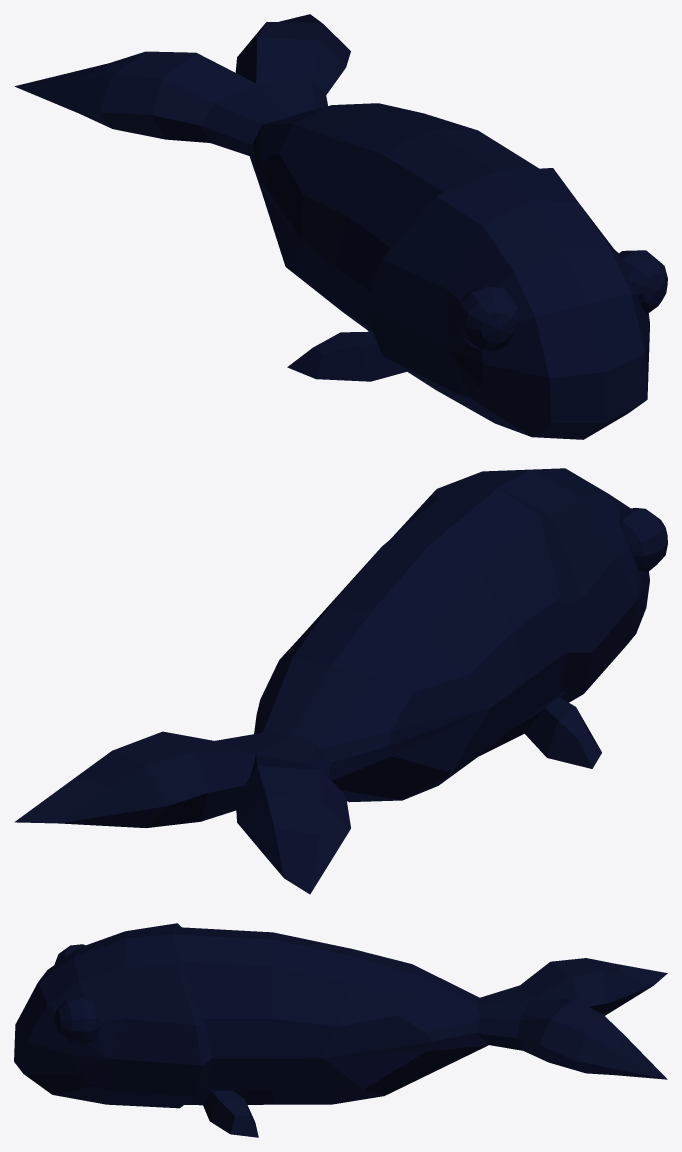
Rendered from FishDoll.fbx.
The picture shows the model from 3 angles, top to bottom: view 1: azimuth 30°, elevation 25°; view 2: azimuth 150°, elevation 25°; view 3: azimuth 270°, elevation 25°; orthographic projection. The views are drawn at different scales.
Parts seen in each view (by area): view 1: Fish_Doll_1_head, Fish_Doll_4_tail, Fish_Doll_3_body, Fish_Doll_2_fin, Fish_Doll_eye_R, Fish_Doll_eye_L; view 2: Fish_Doll_3_body, Fish_Doll_4_tail, Fish_Doll_2_fin, Fish_Doll_1_head, Fish_Doll_eye_R; view 3: Fish_Doll_3_body, Fish_Doll_1_head, Fish_Doll_2_fin, Fish_Doll_4_tail, Fish_Doll_eye_L.
Part boxes in pixels (x1,y1,x2,y2): Fish_Doll_1_head: [364, 168, 649, 439]; Fish_Doll_4_tail: [14, 14, 350, 155]; Fish_Doll_3_body: [249, 103, 476, 327]; Fish_Doll_2_fin: [287, 128, 538, 381]; Fish_Doll_eye_R: [456, 285, 517, 351]; Fish_Doll_eye_L: [618, 250, 667, 313]; Fish_Doll_3_body: [254, 544, 524, 802]; Fish_Doll_4_tail: [14, 731, 350, 894]; Fish_Doll_2_fin: [382, 488, 601, 768]; Fish_Doll_1_head: [390, 468, 649, 702]; Fish_Doll_eye_R: [619, 507, 667, 572]; Fish_Doll_3_body: [273, 932, 488, 1104]; Fish_Doll_1_head: [14, 923, 212, 1108]; Fish_Doll_2_fin: [173, 927, 272, 1137]; Fish_Doll_4_tail: [476, 958, 667, 1079]; Fish_Doll_eye_L: [54, 996, 101, 1045].
Size of the model in its own units: 159 by 110 by 400.
